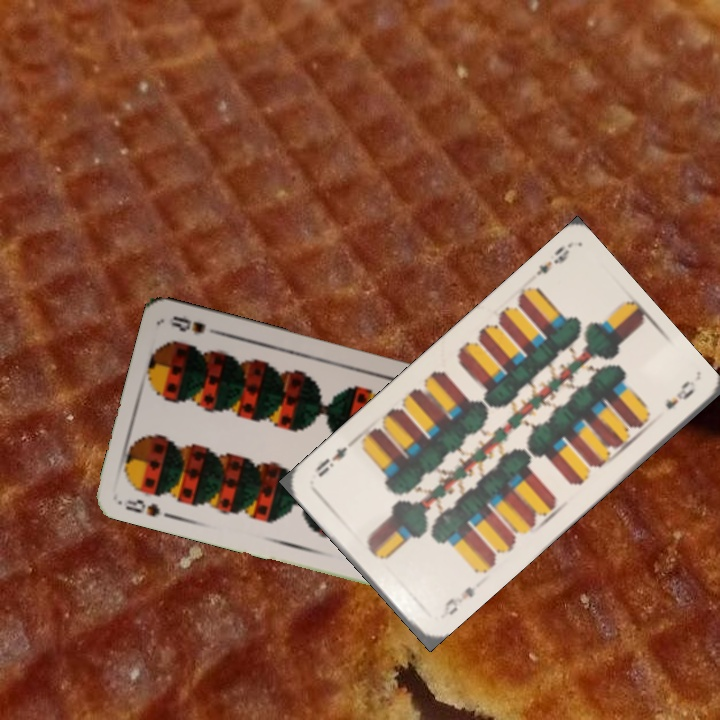E9: (435, 582, 478, 622), (532, 242, 573, 279)
S8: (121, 495, 163, 519)
